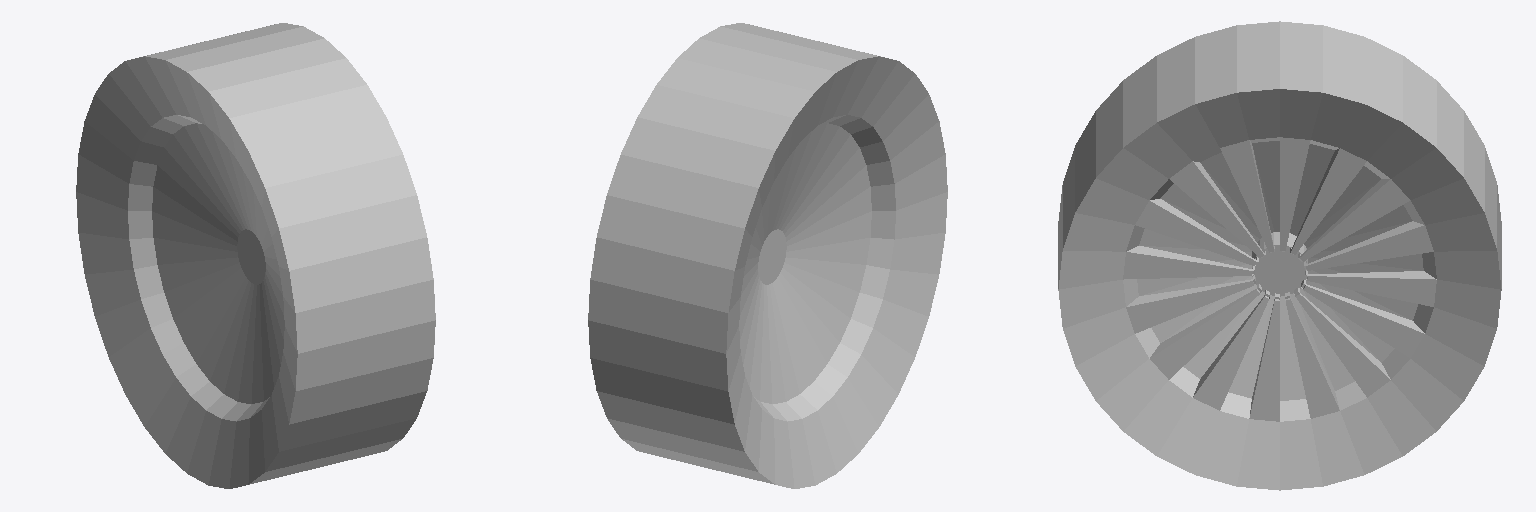
File: roda_frente_direita.obj
3 renders of one model, left to right at view 1: azimuth 30°, elevation 25°; view 2: azimuth 150°, elevation 25°; view 3: azimuth 270°, elevation 25°, orthographic.
Visible parts, largest first — view 1: Roda_frente_direita; view 2: Roda_frente_direita; view 3: Roda_frente_direita.
Boxes of the visible parts, box(x1,y1,x2,y2) form: Roda_frente_direita: box(76, 23, 435, 488); Roda_frente_direita: box(588, 23, 947, 488); Roda_frente_direita: box(1058, 21, 1501, 490).
Size of the model in its own units: 0.2109 by 0.5859 by 0.5859.